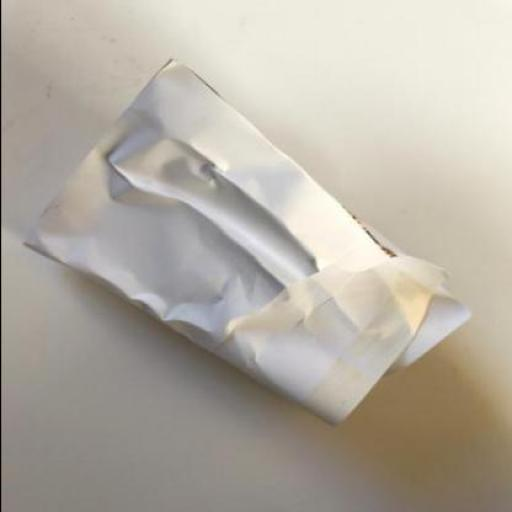paper: (20, 56, 464, 426)
